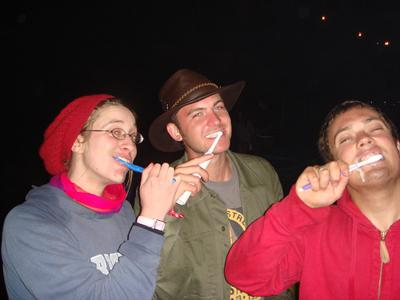person: (226, 100, 400, 300)
